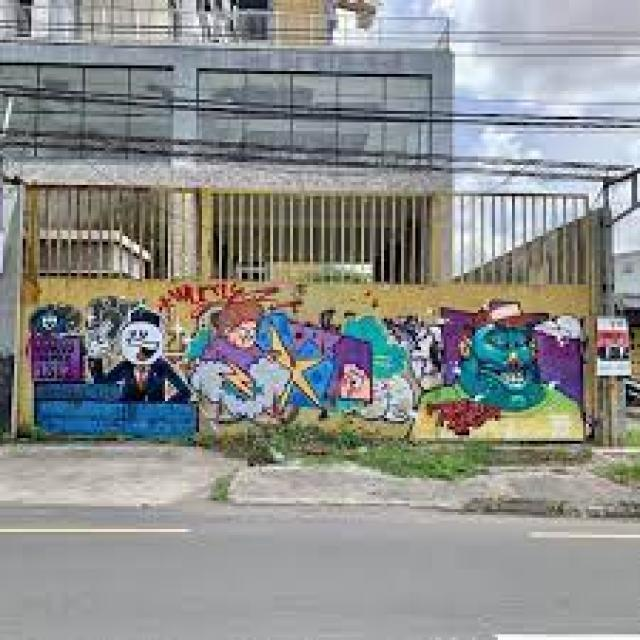-: (32, 279, 592, 446)
